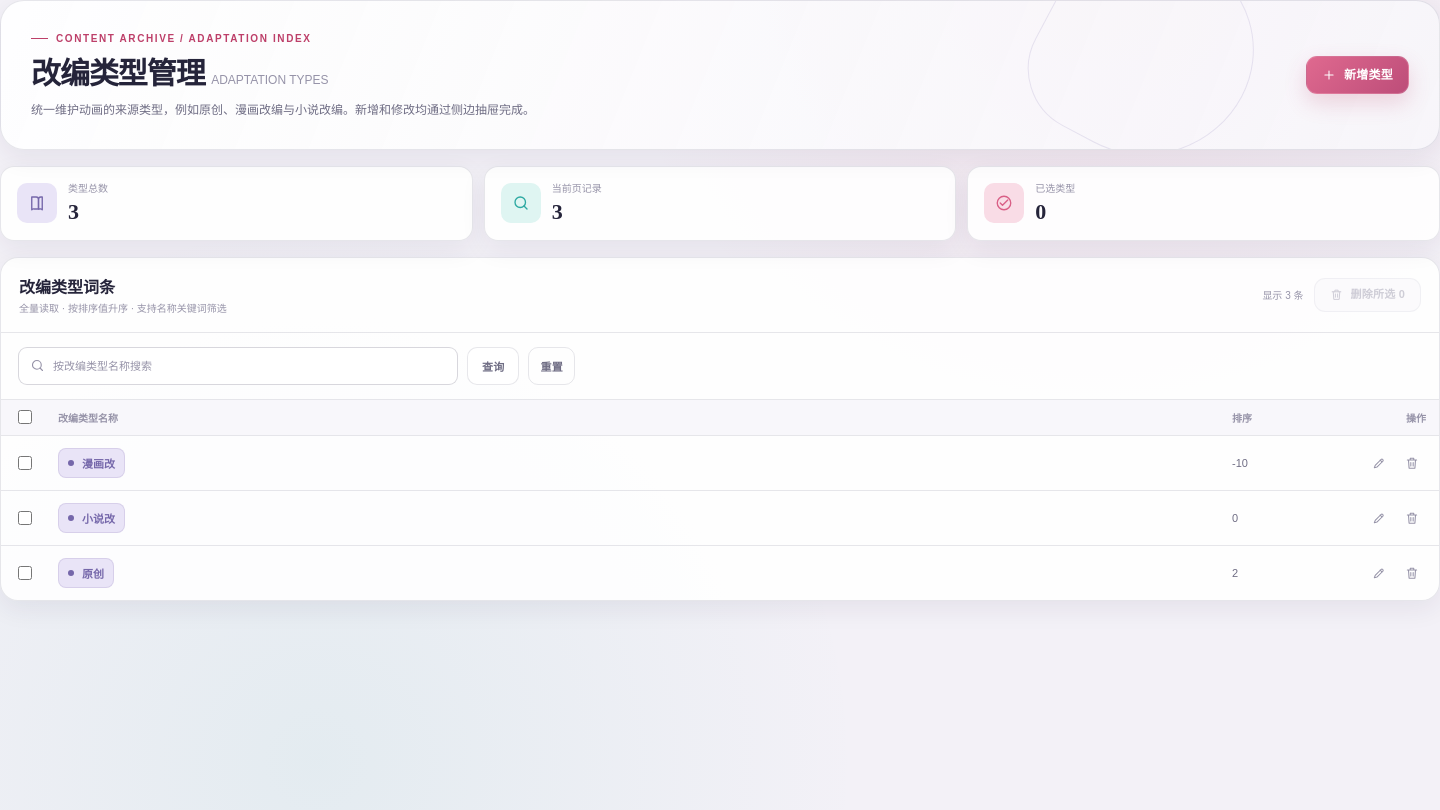
Test: 改编类型管理页面 › 删除需勾选确认，批量请求只使用内部 ID
Expected: the button with class "danger-button" is disabled, [1314, 278, 1421, 312]
Click the checkbox named "选择当前结果全部类型" at (25,417), box [18, 410, 32, 424]
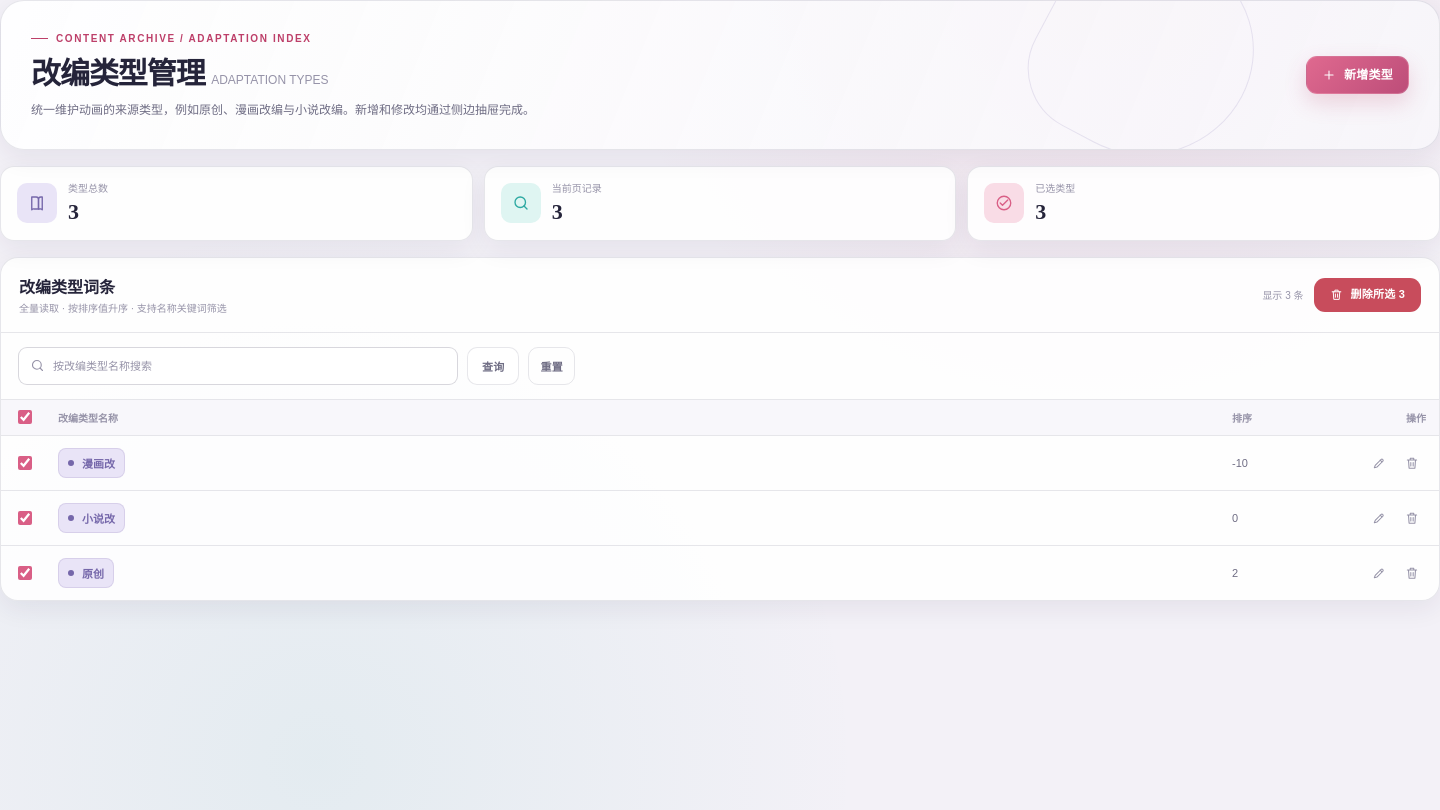
Click the button with class "danger-button" at (1367,294), box [1314, 278, 1421, 312]
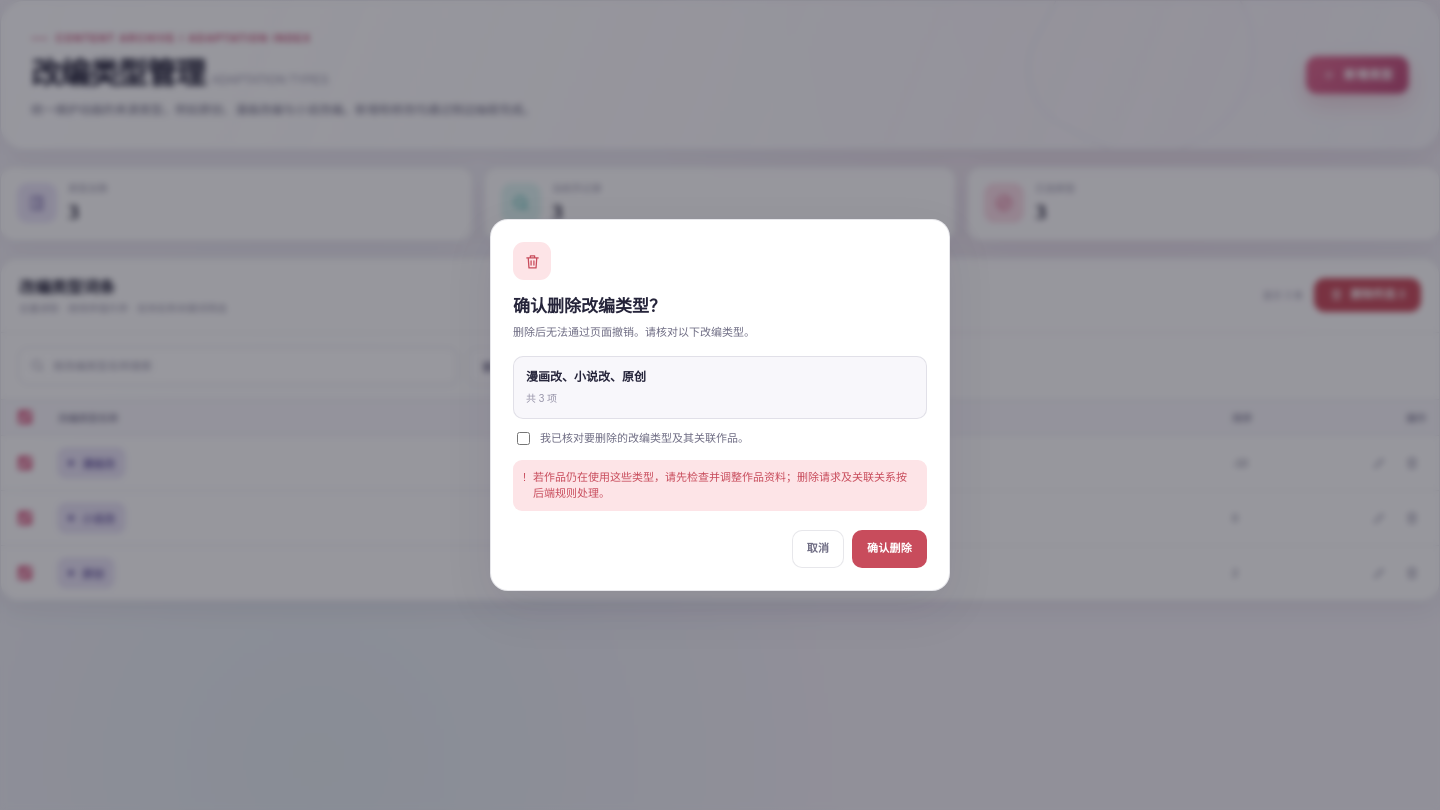
Click the button with class "danger-button" showing "确认删除" at (890,549), box [852, 530, 927, 568]
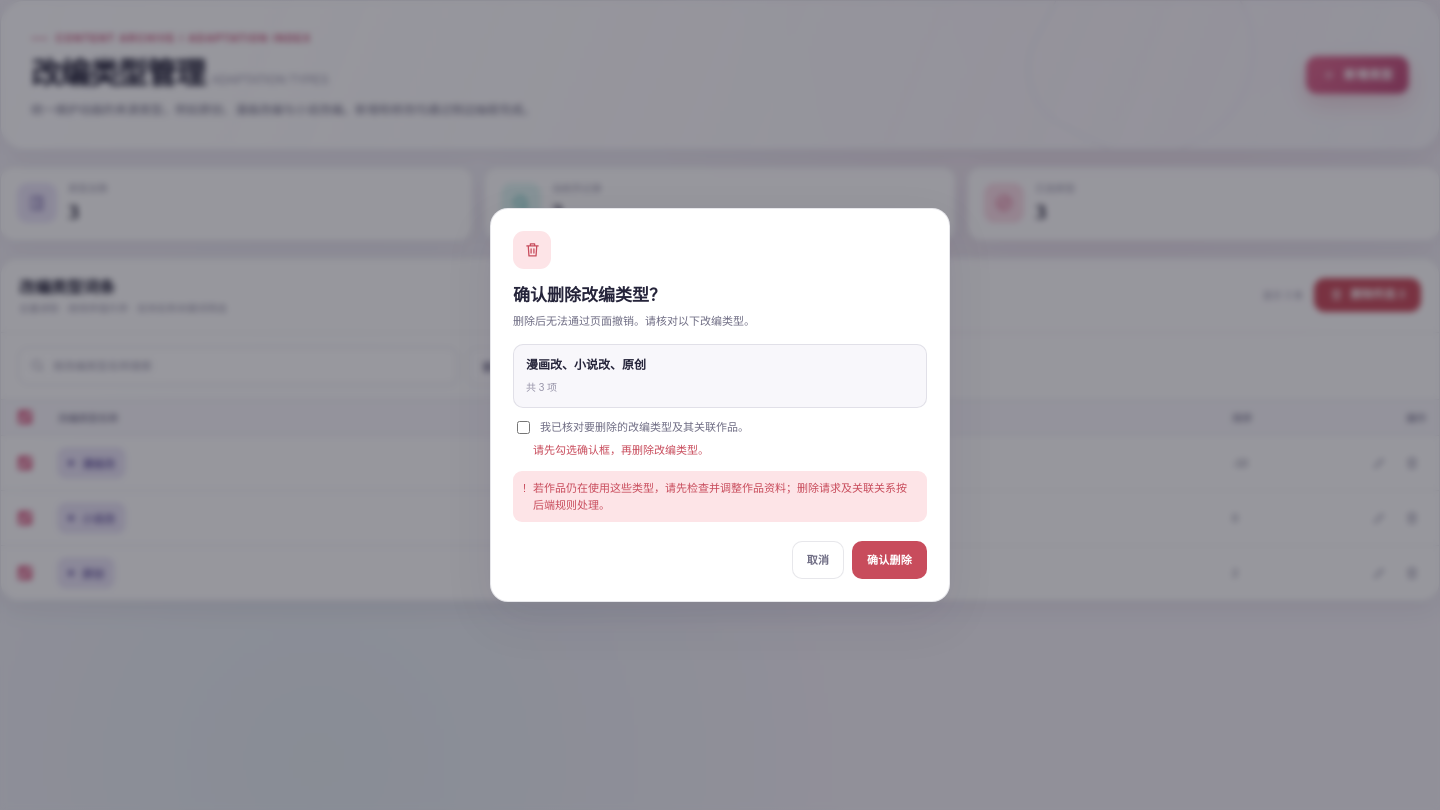
Result: the message with class "adaptation-delete-error" shows "请先勾选" at [533, 444, 709, 456]
Click the checkbox labelled "我已核对要删除的改编类型及其关联作品。" at (524,427), box [517, 420, 530, 434]
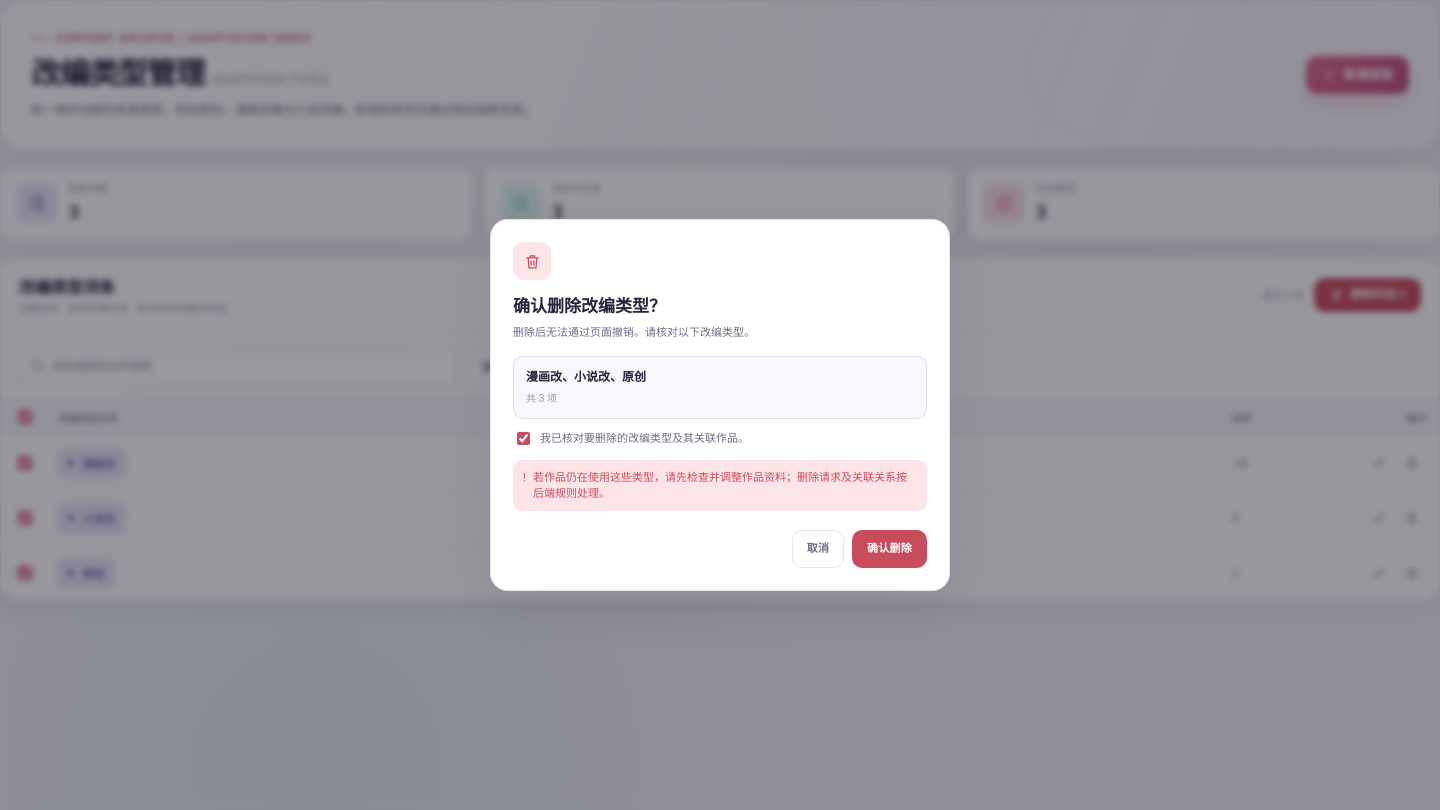
Click the button with class "danger-button" showing "确认删除" at (890,549), box [852, 530, 927, 568]
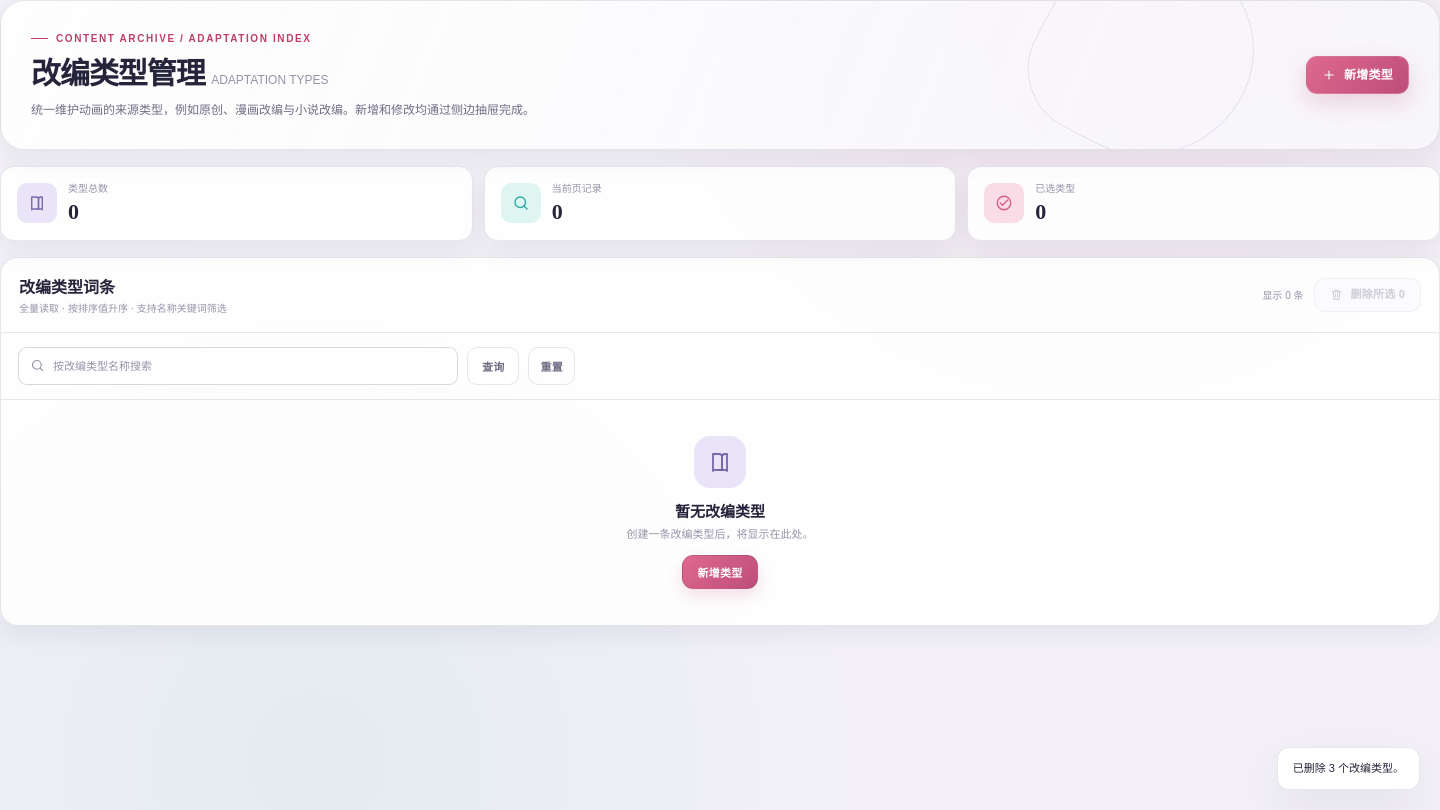
Result: the text "暂无改编类型" is shown at [675, 500, 765, 520]
